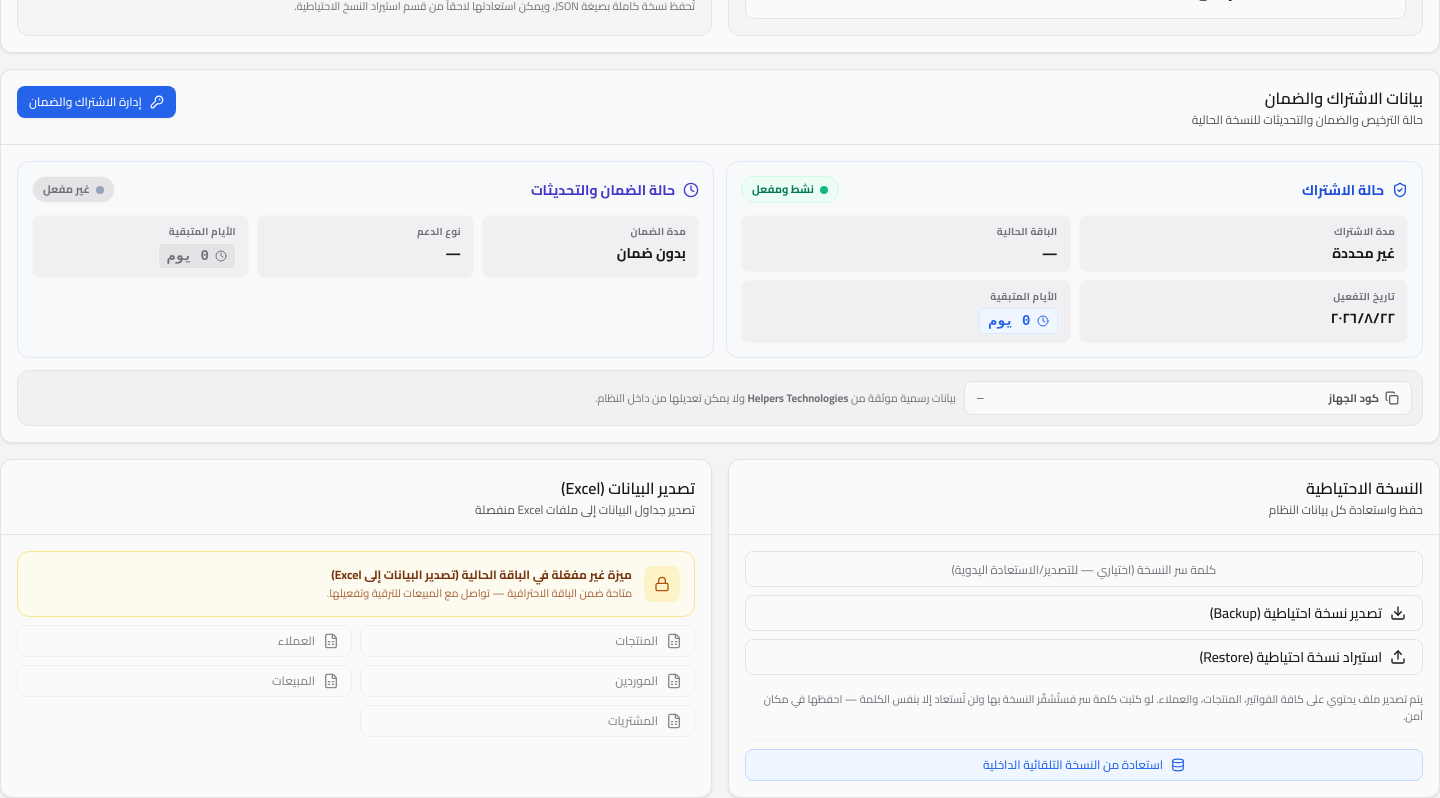
Test: SettingsPage — internal backup restore confirmation › shows a 'no backup' error toast and never opens the ConfirmDialog when no internal backup is stored
This screenshot has width=1440, height=798.
(page scrolled)
Click the button "استعادة من النسخة التلقائية الداخلية".
click(1084, 765)  # box [745, 749, 1423, 781]
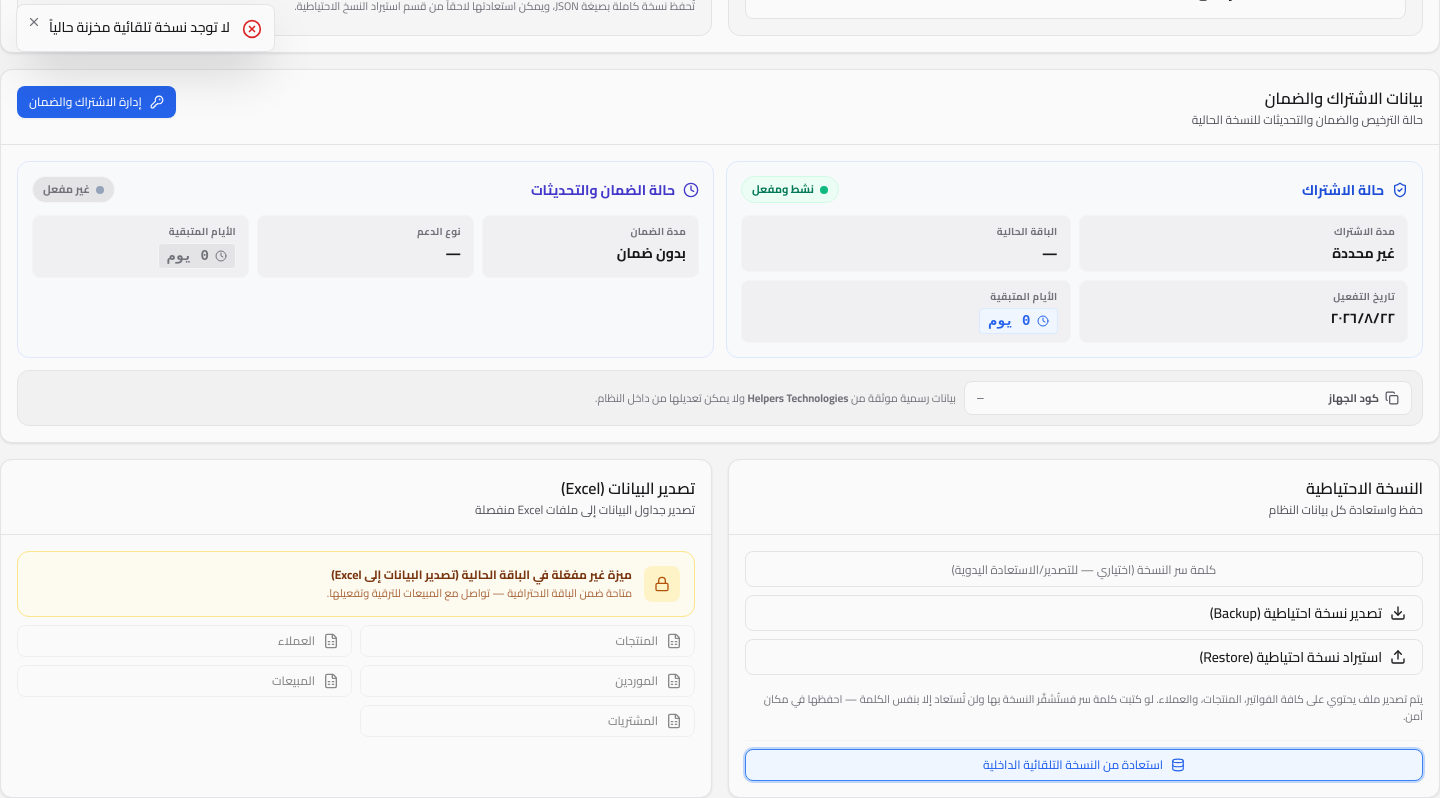
Expected: the text "لا توجد نسخة تلقائية مخزنة حالياً" is shown, [49, 17, 230, 37]
